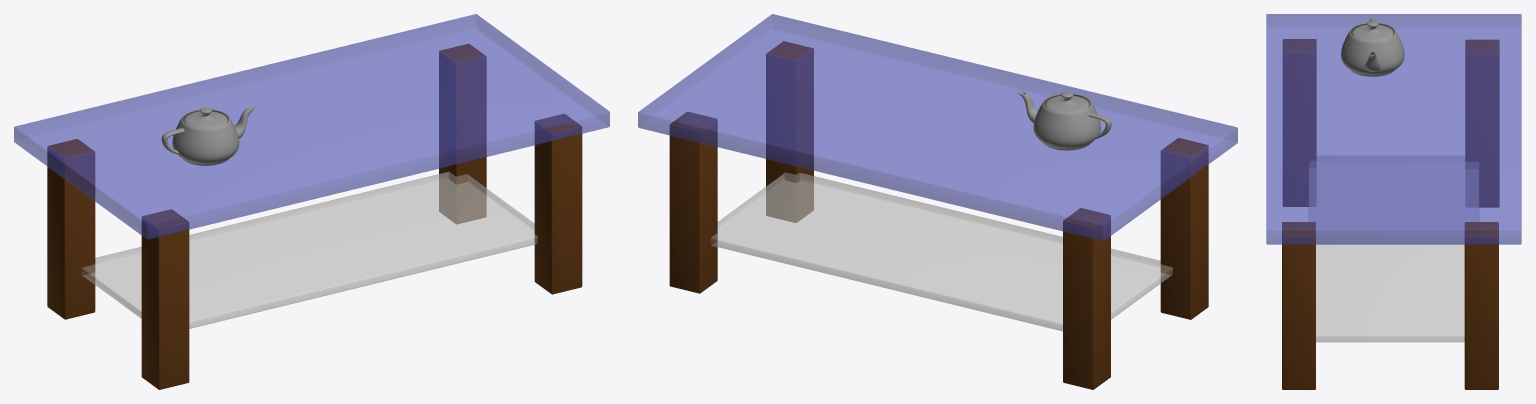
The model's file is tea table.FBX.
3 renders of one model, left to right at view 1: azimuth 30°, elevation 25°; view 2: azimuth 150°, elevation 25°; view 3: azimuth 270°, elevation 25°, orthographic. The views are drawn at different scales.
Parts seen in each view (by area): view 1: ChamferBox001, ChamferBox002, ChamferBox004, ChamferBox006, ChamferBox003, ChamferBox005, Teapot001; view 2: ChamferBox001, ChamferBox002, ChamferBox005, ChamferBox004, ChamferBox003, ChamferBox006, Teapot001; view 3: ChamferBox001, ChamferBox002, ChamferBox005, ChamferBox006, ChamferBox004, ChamferBox003, Teapot001.
Boxes of the visible parts, x1,y1,x2,y2 form: ChamferBox001: (14,14,609,239); ChamferBox002: (82,171,537,328); ChamferBox004: (141,209,189,389); ChamferBox006: (534,114,582,294); ChamferBox003: (47,139,95,319); ChamferBox005: (439,44,486,224); Teapot001: (161,107,255,165); ChamferBox001: (638,14,1237,240); ChamferBox002: (711,172,1172,331); ChamferBox005: (669,112,717,293); ChamferBox004: (1160,138,1208,319); ChamferBox003: (1063,208,1110,389); ChamferBox006: (766,41,813,222); Teapot001: (1017,91,1111,150); ChamferBox001: (1266,14,1521,244); ChamferBox002: (1309,156,1478,342); ChamferBox005: (1464,222,1498,389); ChamferBox006: (1282,222,1315,389); ChamferBox004: (1283,39,1316,206); ChamferBox003: (1465,39,1499,207); Teapot001: (1341,18,1404,76).
Bounding box in the file's own units: 1200 × 555 × 600.
